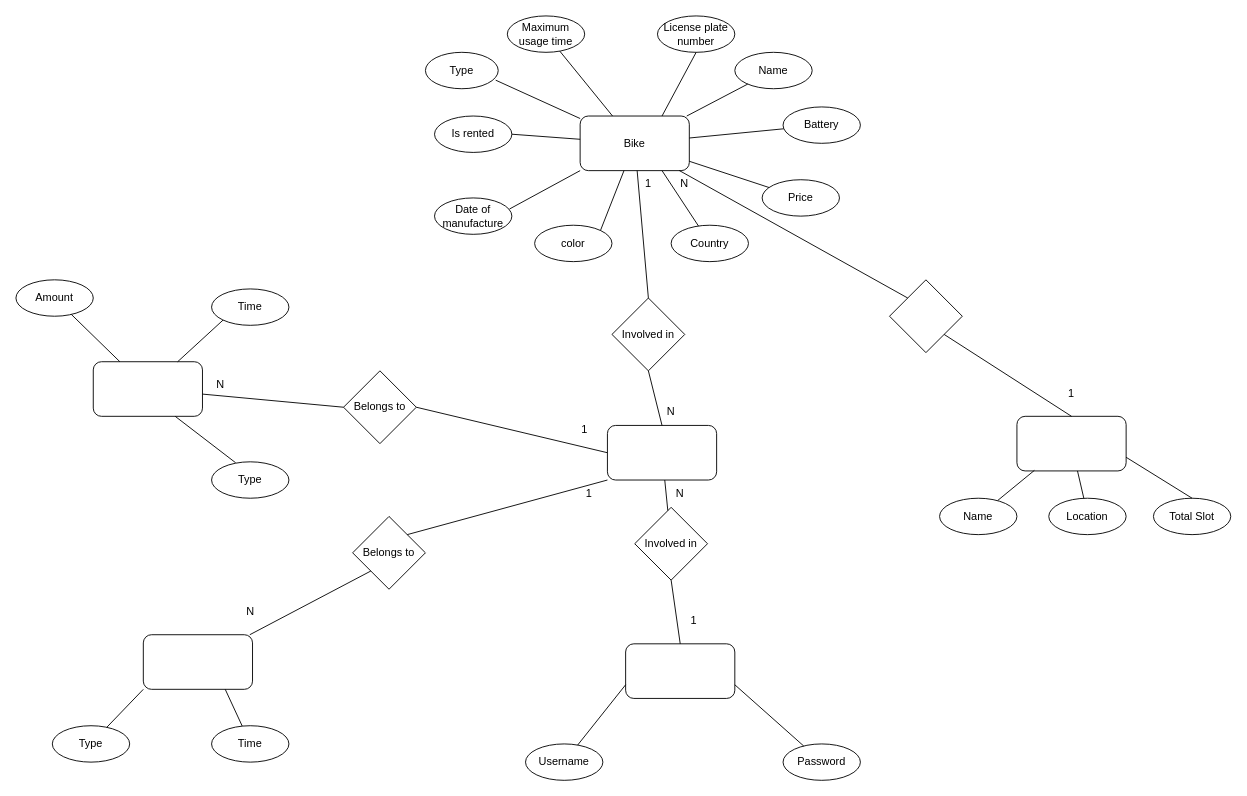
The diagram is 1247 pixels wide and 796 high, and some of its shapes have lost their labels. Each missing label, with the box of its shape:
Event: (142, 634, 253, 689)
In: (889, 279, 962, 353)
Parking Lot: (1016, 415, 1126, 471)
Payment Transaction: (92, 361, 202, 416)
Rental: (607, 425, 717, 480)
User: (625, 643, 735, 698)
